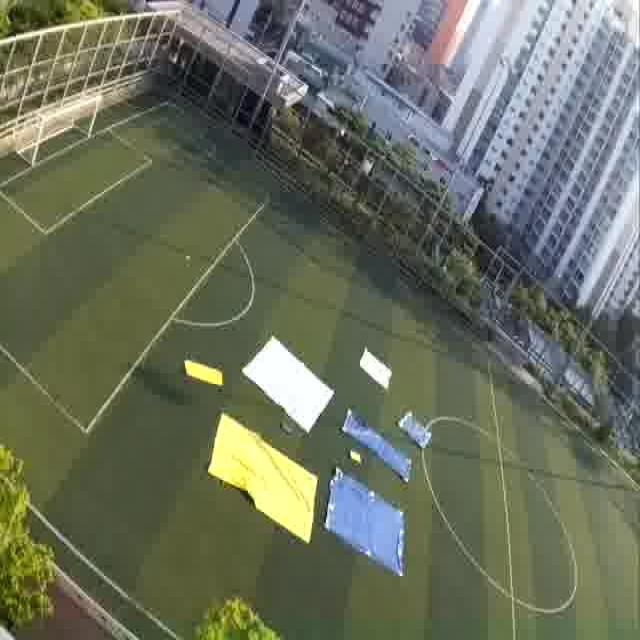danger: (328, 492, 404, 552), (343, 408, 383, 448), (399, 412, 436, 452)
safety: (251, 338, 328, 421), (355, 341, 399, 391)
warning: (214, 430, 313, 526), (185, 356, 225, 392)
